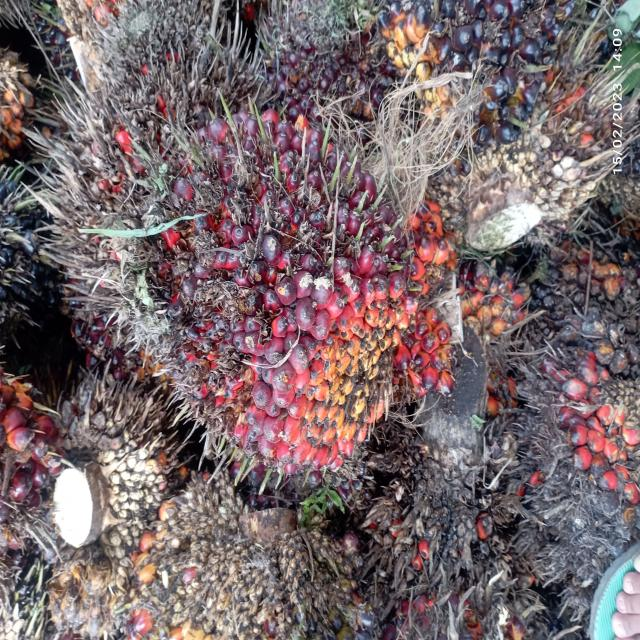fraksi 00: (369, 0, 640, 205)
fraksi 3: (113, 71, 469, 508)
